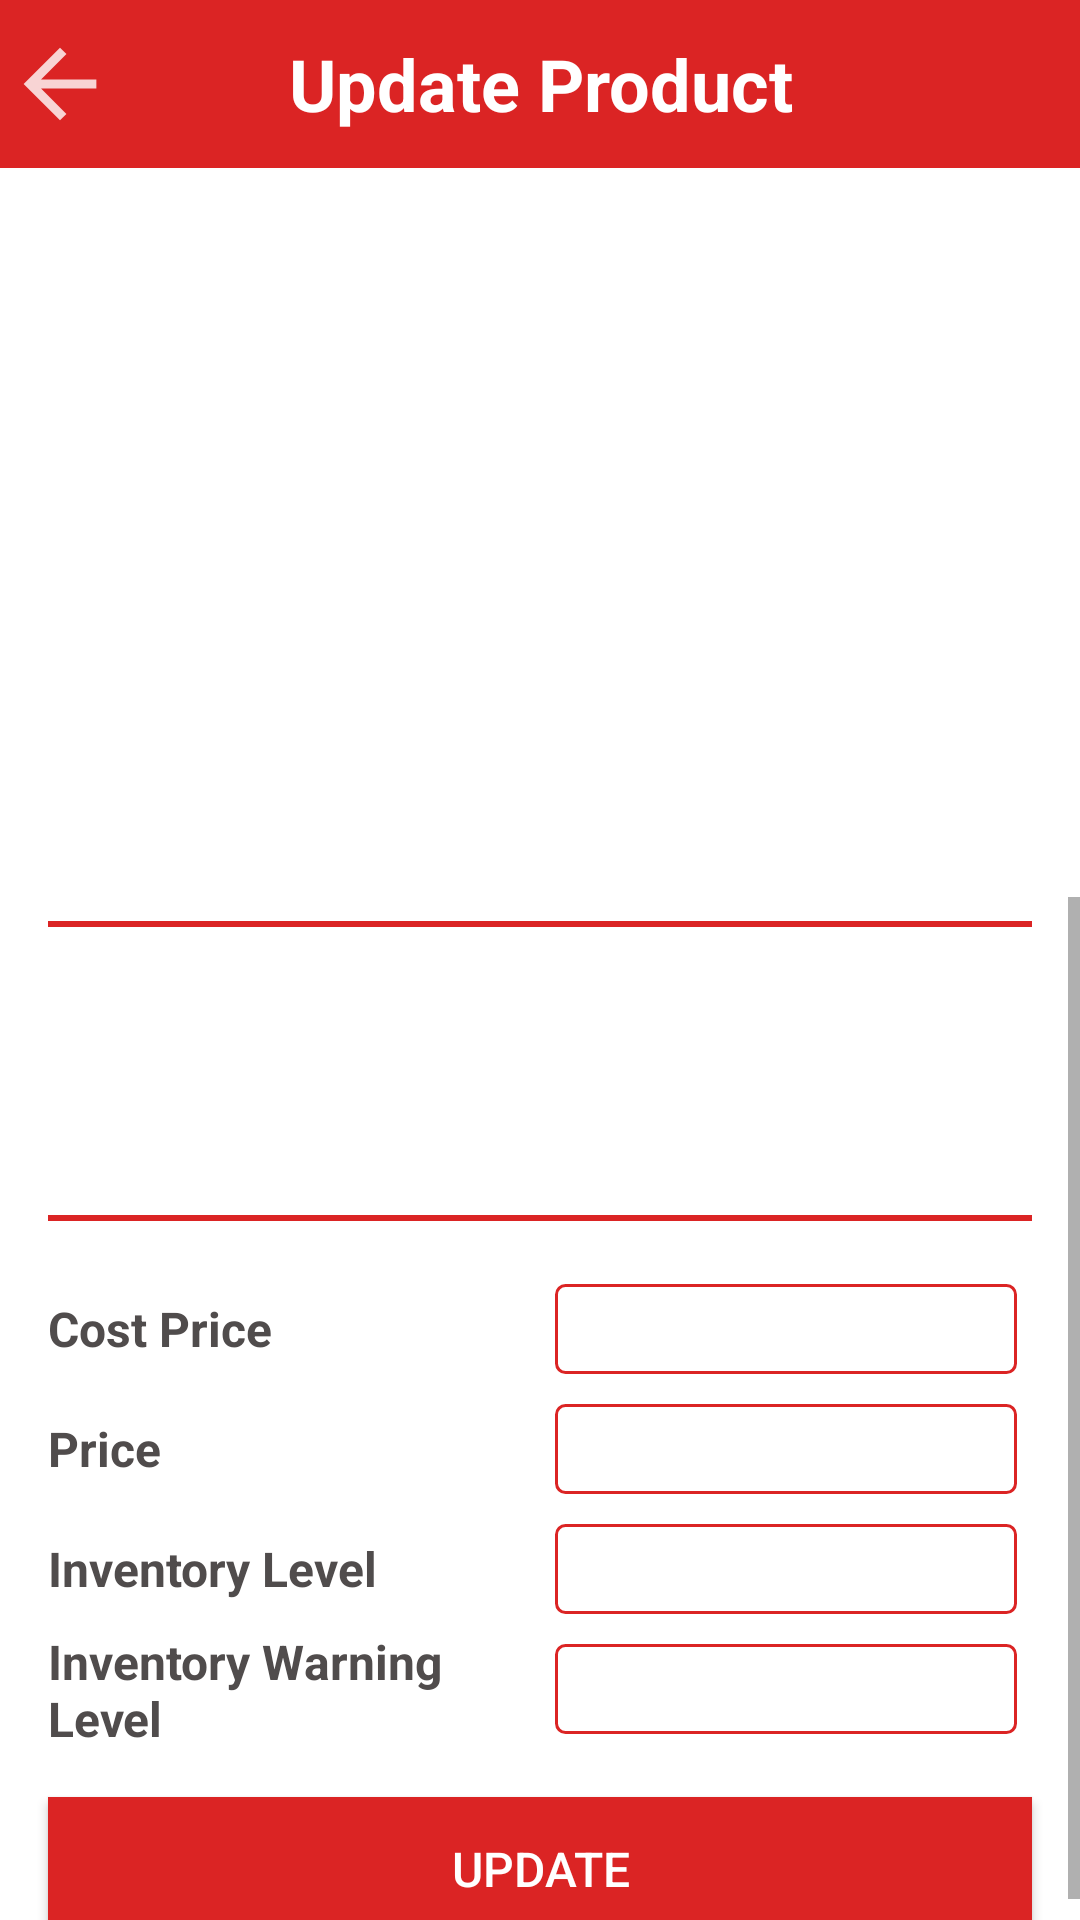

Screen size 1080px×1920px. Icon name, then its center in pixels as (x=x, y=y):
back: (x=60, y=84)
